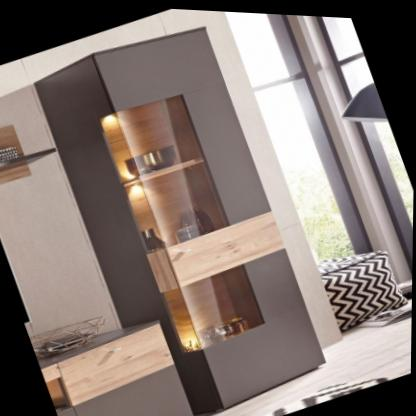Cupboard: (34, 25, 327, 416)
